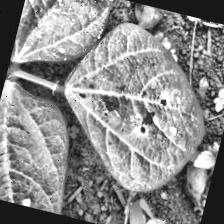Bean Rust: (38, 9, 224, 203), (0, 81, 82, 213), (9, 0, 113, 83)
